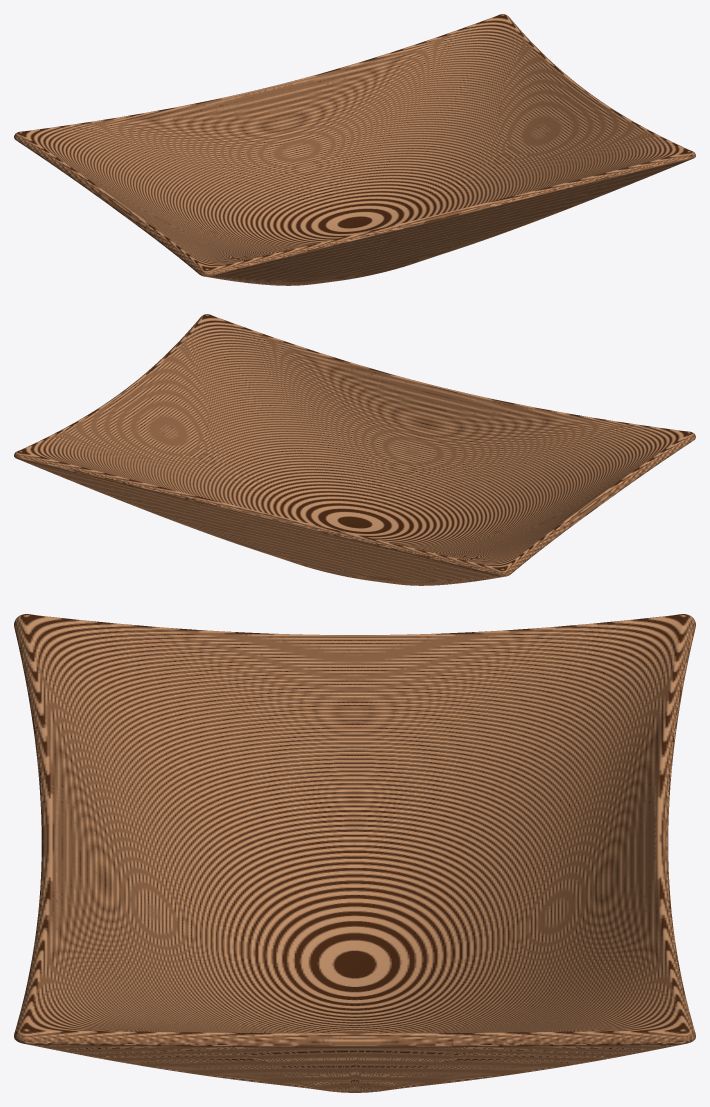
File: Заготовка5 120 10.glb
The picture shows the model from 3 angles, top to bottom: view 1: azimuth 30°, elevation 25°; view 2: azimuth 150°, elevation 25°; view 3: azimuth 270°, elevation 25°; orthographic projection. The views are drawn at different scales.
Visible parts, largest first — view 1: Solid_115; view 2: Solid_115; view 3: Solid_115.
Boxes of the visible parts, <box> form: Solid_115: <box>14,14,695,285</box>; Solid_115: <box>14,314,695,585</box>; Solid_115: <box>14,614,695,1092</box>.
Size of the model in its own units: 558 by 118 by 378.
Materials: 1 (1 with a texture image).
